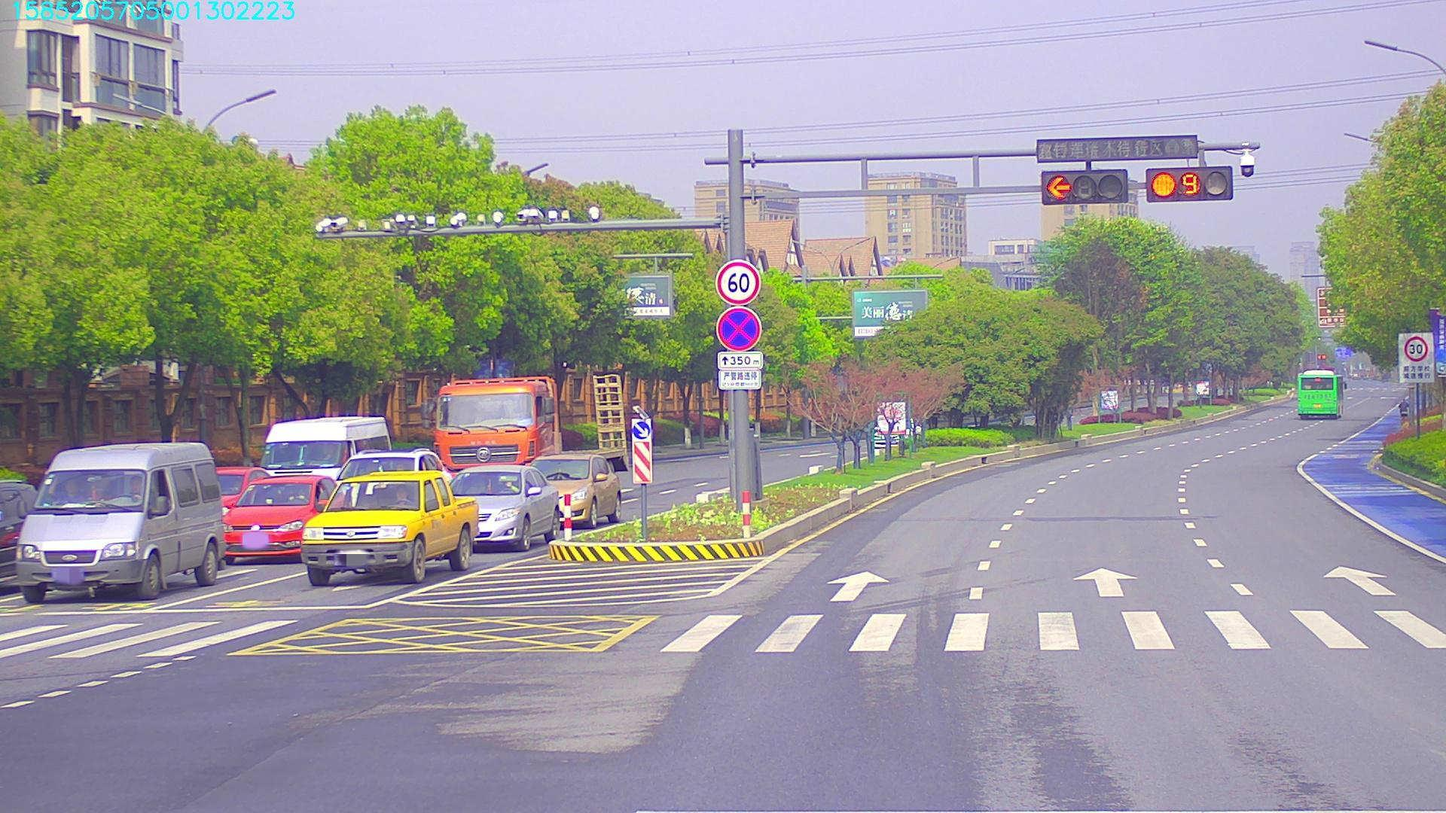off: (1148, 165, 1234, 200)
red: (1045, 166, 1130, 206)
